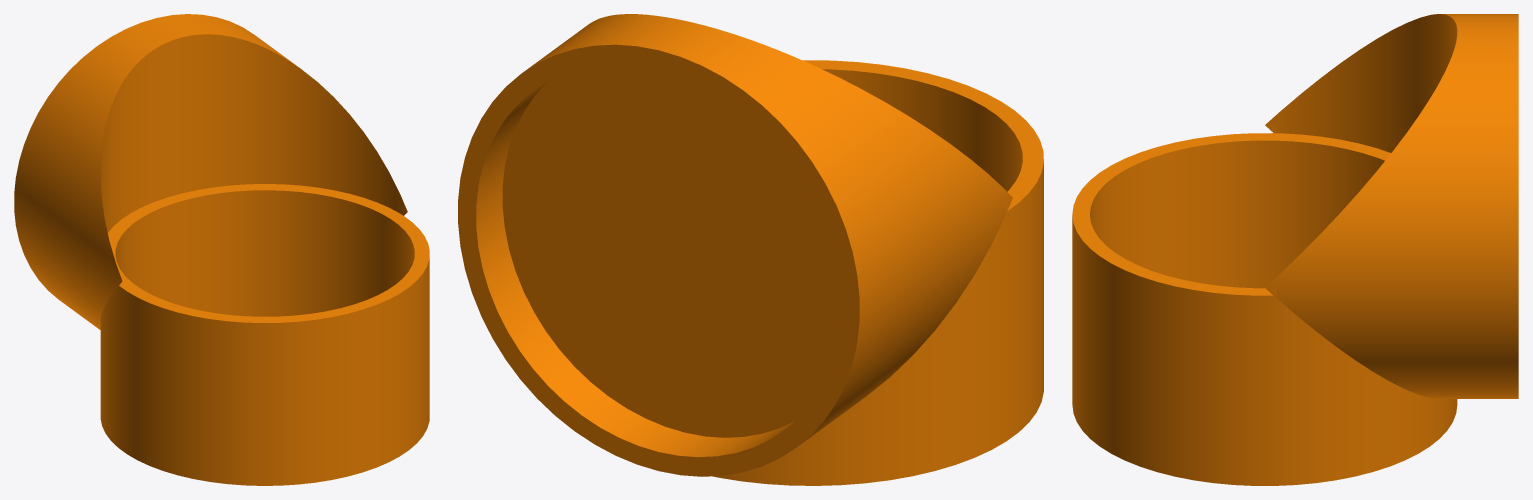
Rendered from Hip_Roll.obj.
3 views of the same model, side by side, from view 1: azimuth 30°, elevation 25°; view 2: azimuth 150°, elevation 25°; view 3: azimuth 270°, elevation 25° (orthographic). The views are drawn at different scales.
Parts seen in each view (by area): view 1: mesh206, mesh205, mesh209, mesh204, mesh207; view 2: mesh201, mesh204, mesh206, mesh203, mesh202, mesh209, mesh207; view 3: mesh206, mesh204, mesh209, mesh205, mesh207.
Boxes of the visible parts, x1=… form: mesh206: x1=100, y1=258, x2=429, y2=485; mesh205: x1=100, y1=34, x2=406, y2=285; mesh209: x1=115, y1=190, x2=414, y2=316; mesh204: x1=14, y1=14, x2=407, y2=329; mesh207: x1=108, y1=184, x2=429, y2=322; mesh201: x1=502, y1=64, x2=841, y2=437; mesh204: x1=523, y1=14, x2=1012, y2=446; mesh206: x1=713, y1=162, x2=1043, y2=485; mesh203: x1=458, y1=44, x2=859, y2=476; mesh202: x1=476, y1=82, x2=794, y2=457; mesh209: x1=822, y1=69, x2=1022, y2=191; mesh207: x1=803, y1=60, x2=1043, y2=210; mesh206: x1=1072, y1=215, x2=1457, y2=485; mesh204: x1=1265, y1=14, x2=1518, y2=398; mesh209: x1=1090, y1=140, x2=1384, y2=288; mesh205: x1=1267, y1=14, x2=1457, y2=295; mesh207: x1=1072, y1=133, x2=1390, y2=295.
Bounding box in the file's own units: 0.088 × 0.094 × 0.102.
